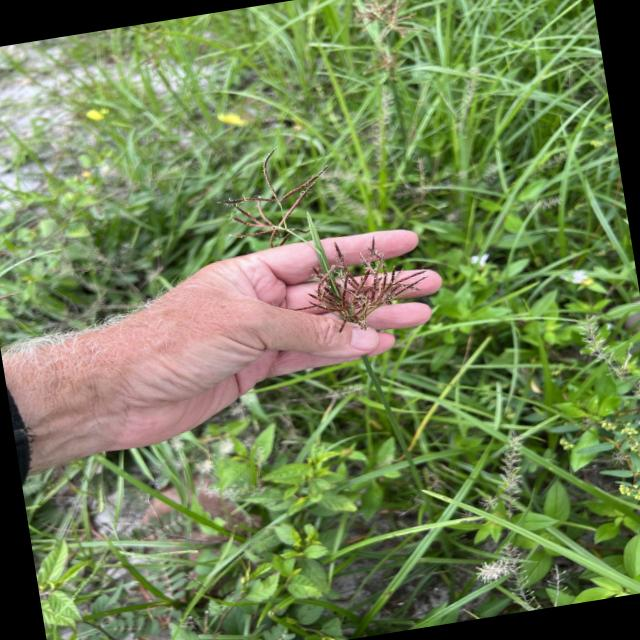cyperus: (220, 143, 434, 351), (342, 0, 432, 75)
